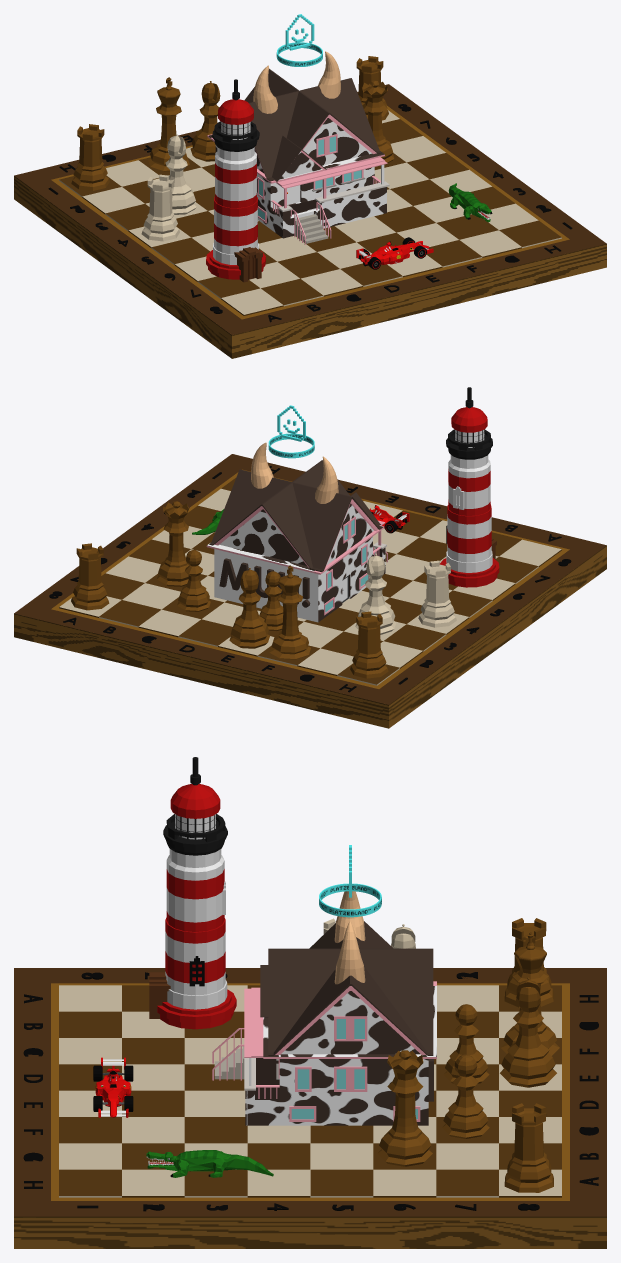
3 renders of one model, top to bottom at view 1: azimuth 30°, elevation 25°; view 2: azimuth 150°, elevation 25°; view 3: azimuth 270°, elevation 25°, orthographic. The views are drawn at different scales.
Parts seen in each view (by area): view 1: Cube.002, Cube.1242, OBJRANDOM_LIGHTHOUSE, VEHICLES_FORMULA_1, TYPE_PREMIUM, ANIMAL_COCODRILO; view 2: Cube.002, Cube.1242, OBJRANDOM_LIGHTHOUSE, TYPE_PREMIUM, VEHICLES_FORMULA_1; view 3: Cube.002, Cube.1242, OBJRANDOM_LIGHTHOUSE, ANIMAL_COCODRILO, VEHICLES_FORMULA_1, TYPE_PREMIUM.
Part boxes in pixels (left/top/right/bottom): Cube.002: left=14, top=56, right=606, bottom=358; Cube.1242: left=207, top=51, right=389, bottom=244; OBJRANDOM_LIGHTHOUSE: left=206, top=79, right=265, bottom=282; VEHICLES_FORMULA_1: left=356, top=237, right=433, bottom=269; TYPE_PREMIUM: left=276, top=14, right=322, bottom=66; ANIMAL_COCODRILO: left=448, top=183, right=492, bottom=222; Cube.002: left=14, top=454, right=606, bottom=728; Cube.1242: left=206, top=442, right=387, bottom=622; OBJRANDOM_LIGHTHOUSE: left=440, top=387, right=499, bottom=587; TYPE_PREMIUM: left=268, top=405, right=314, bottom=458; VEHICLES_FORMULA_1: left=369, top=505, right=409, bottom=533; Cube.002: left=14, top=918, right=606, bottom=1248; Cube.1242: left=212, top=891, right=436, bottom=1125; OBJRANDOM_LIGHTHOUSE: left=149, top=757, right=236, bottom=1029; ANIMAL_COCODRILO: left=146, top=1150, right=273, bottom=1177; VEHICLES_FORMULA_1: left=93, top=1057, right=133, bottom=1117; TYPE_PREMIUM: left=319, top=845, right=381, bottom=917.
Size of the model in its own units: 3981 by 2239 by 4012.
Materials: 45 (3 with a texture image).
